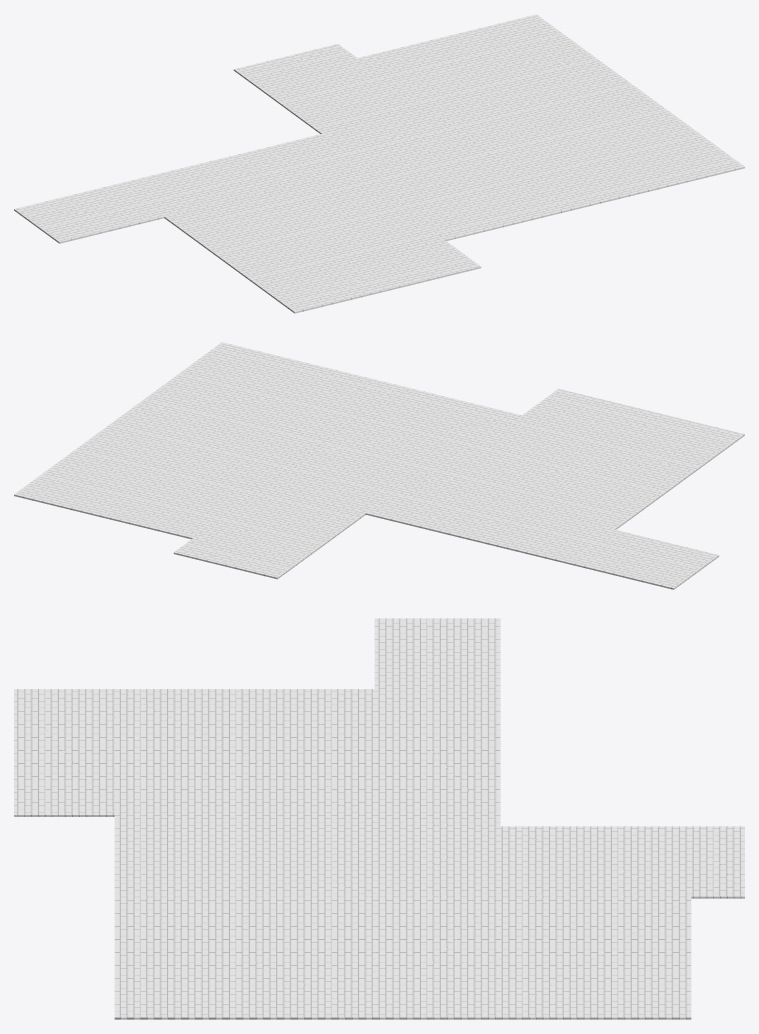
The model's file is Floor_02.fbx.
3 views of the same model, one above another, from view 1: azimuth 30°, elevation 25°; view 2: azimuth 150°, elevation 25°; view 3: azimuth 270°, elevation 25° (orthographic). The views are drawn at different scales.
Visible parts, largest first — view 1: Floor_02; view 2: Floor_02; view 3: Floor_02.
Part boxes in pixels (x1,y1,x2,y2): Floor_02: [14, 14, 744, 313]; Floor_02: [14, 342, 744, 589]; Floor_02: [14, 618, 744, 1019].
Bounding box in the file's own units: 7546 × 18.6 × 5839.
Materials: 1 (1 with a texture image).
